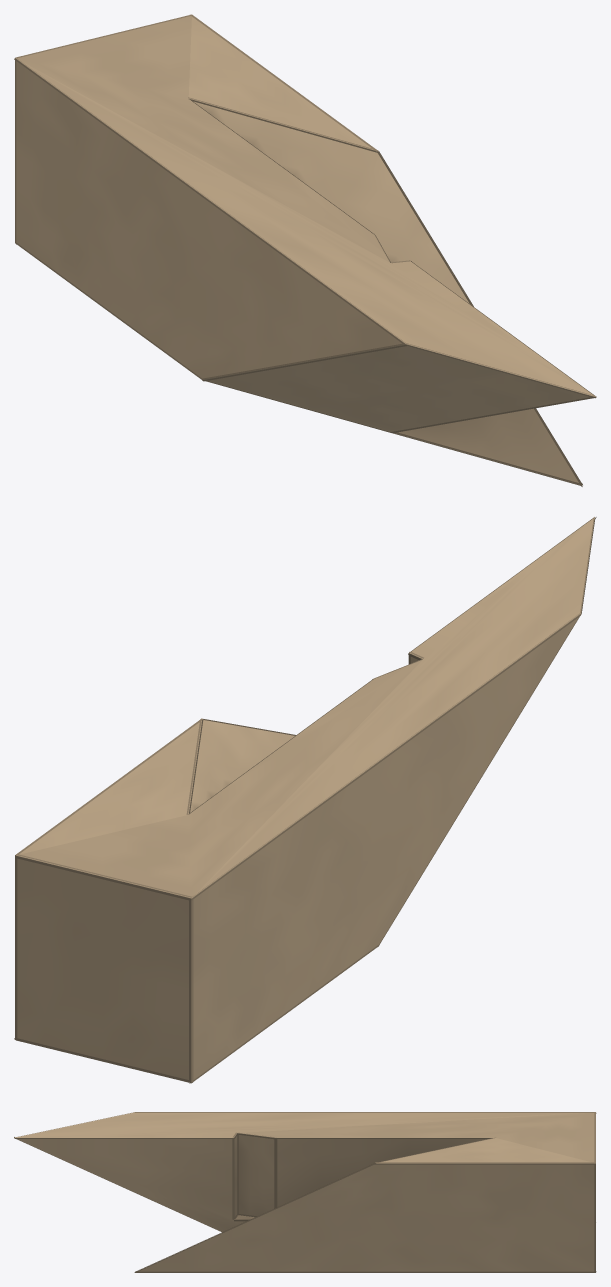
3 renders of one model, top to bottom at view 1: azimuth 30°, elevation 25°; view 2: azimuth 150°, elevation 25°; view 3: azimuth 270°, elevation 25°, orthographic. The views are drawn at different scales.
Visible parts, largest first — view 1: part-b; view 2: part-b; view 3: part-b.
Part boxes in pixels (box(x1,y1,x2,y2)): part-b: box(14, 14, 596, 486); part-b: box(14, 517, 596, 1083); part-b: box(14, 1112, 596, 1272).
Bounding box in the file's own units: 0.1209 × 0.1221 × 0.5812.
